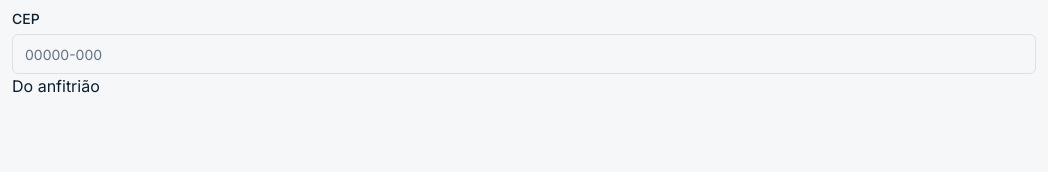
CepField (E2.08, UX-18) › não encontrado: o aviso embaixo, sem marcar o campo como inválido; some quando o CEP muda
Type "99999999" into the field labelled "CEP" at (524, 54), box [12,34,1036,74]
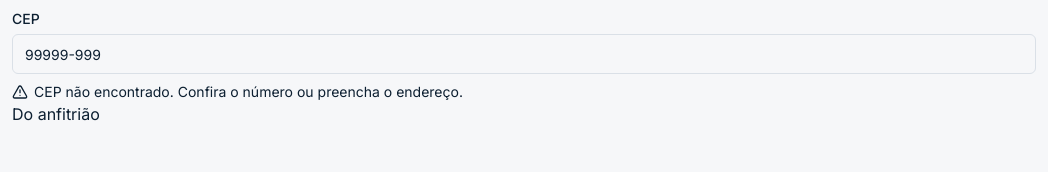
Replace the text in the field labelled "CEP" with "9999999" at (524, 54), box [12,34,1036,74]
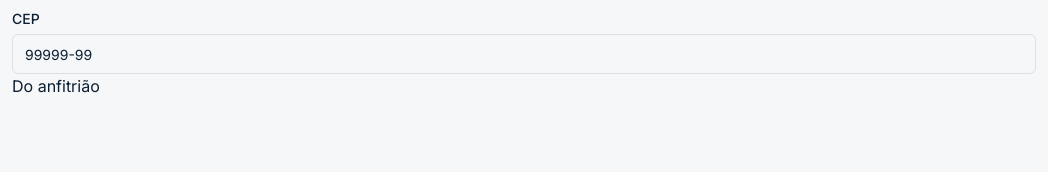
Expected: the text "CEP não encontrado" is gone
